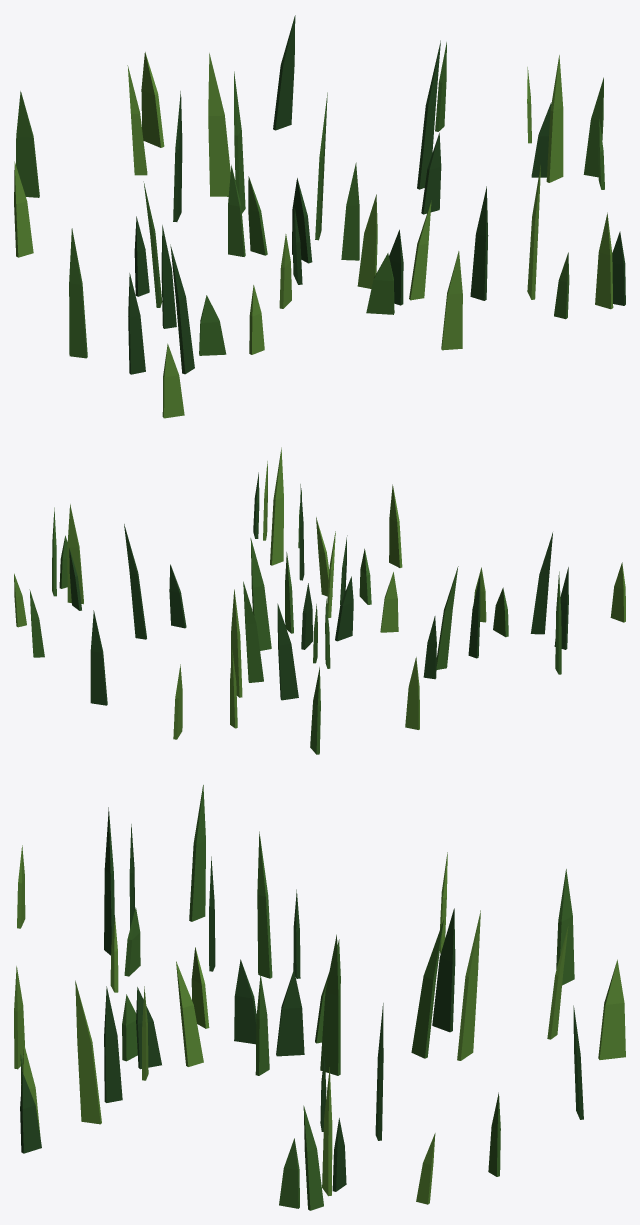
The model's file is grass_meadow_b.glb.
3 renders of one model, top to bottom at view 1: azimuth 30°, elevation 25°; view 2: azimuth 150°, elevation 25°; view 3: azimuth 270°, elevation 25°, orthographic. The views are drawn at different scales.
Visible parts, largest first — view 1: Meadow_3.001, Meadow_1.001, Meadow_2.001; view 2: Meadow_1.001, Meadow_3.001, Meadow_2.001; view 3: Meadow_2.001, Meadow_1.001, Meadow_3.001.
Boxes of the visible parts, x1,y1,x2,y2 form: Meadow_3.001: (14, 52, 613, 418); Meadow_1.001: (128, 15, 625, 374); Meadow_2.001: (16, 42, 604, 358); Meadow_1.001: (69, 472, 568, 705); Meadow_3.001: (14, 447, 625, 739); Meadow_2.001: (29, 490, 561, 754); Meadow_2.001: (20, 785, 574, 1210); Meadow_1.001: (20, 807, 583, 1191); Meadow_3.001: (14, 845, 625, 1204).
Bounding box in the file's own units: 2.13 × 0.4928 × 1.86.
